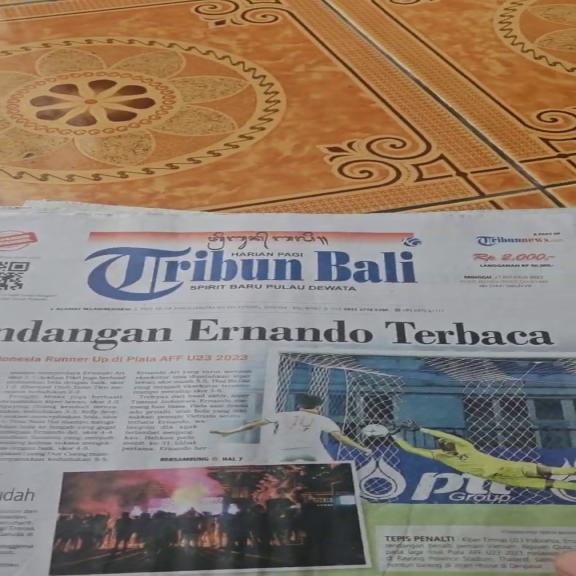Kertas: (0, 207, 572, 575)
